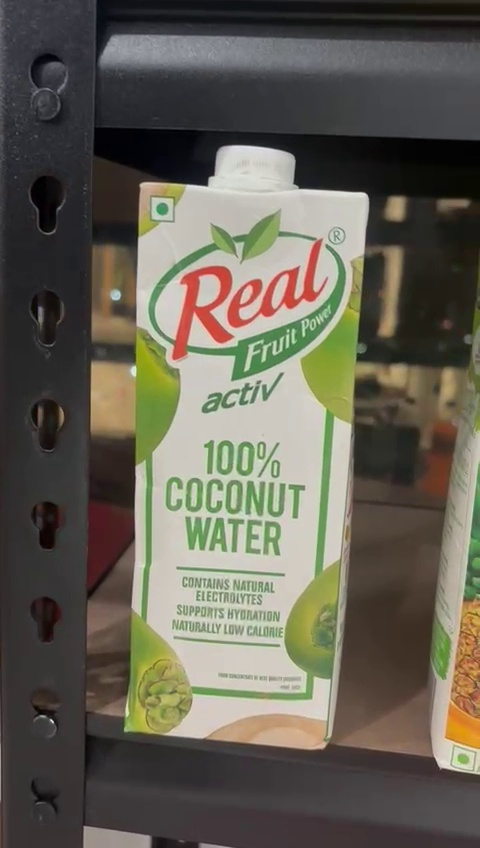Coconut water: (125, 154, 355, 738)
